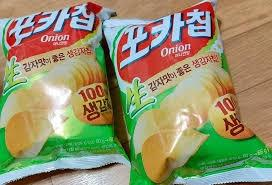snack: (103, 0, 272, 185), (0, 1, 131, 185)
